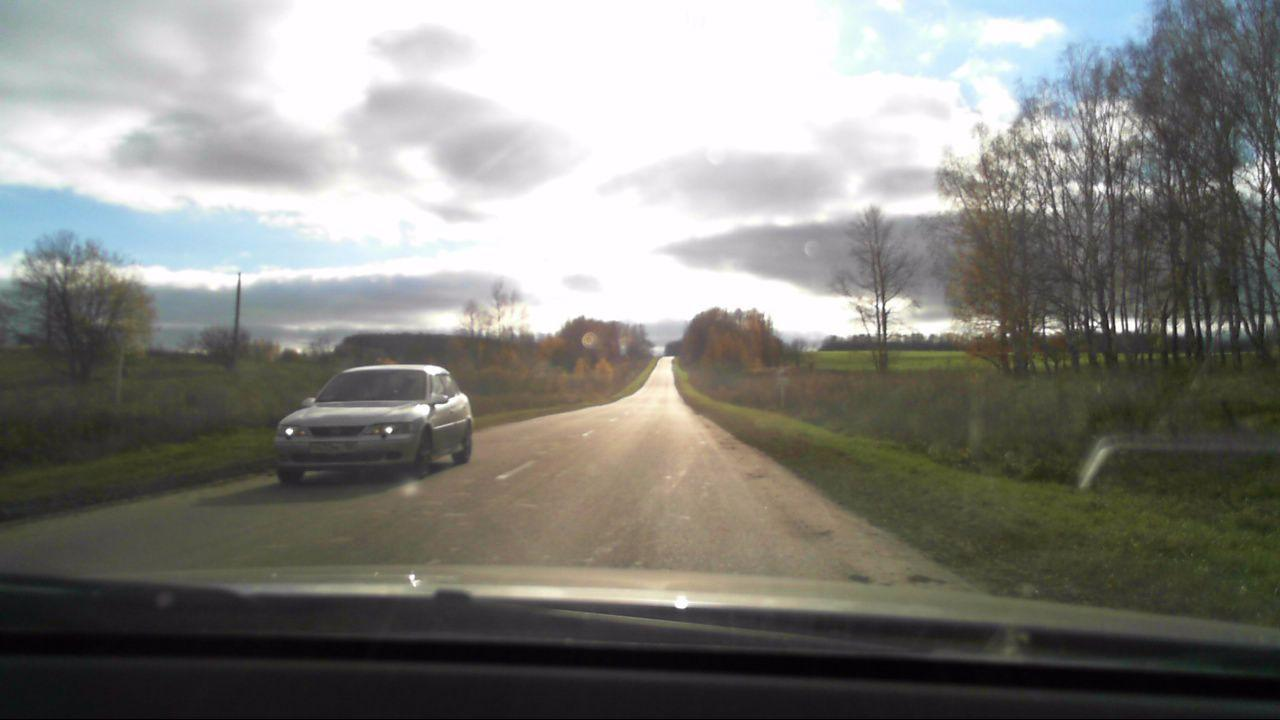1_14: (774, 363, 792, 377)
8_2_1: (775, 377, 791, 386)
